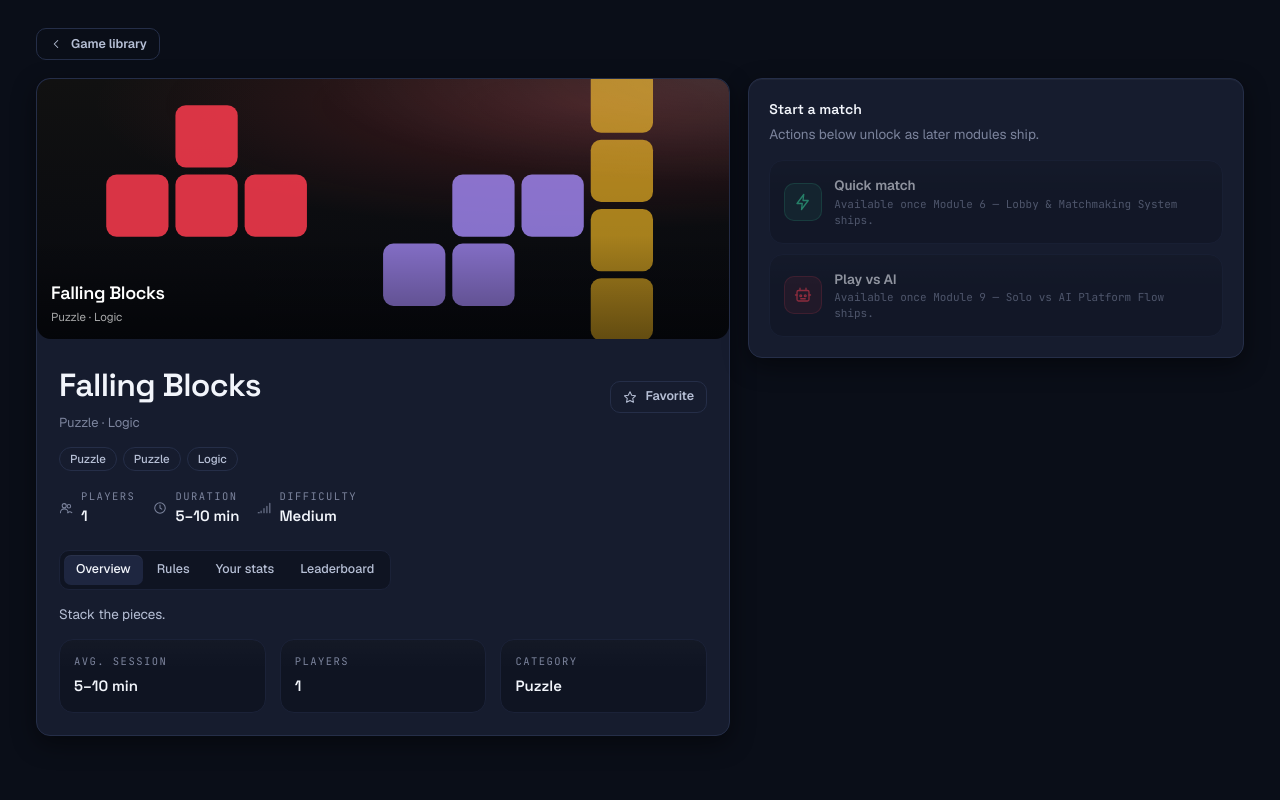
GameDetailPage › authenticated: favorite toggle is optimistic and rolls back on failure
This screenshot has width=1280, height=800.
Expected: the 1st text "Falling Blocks" is shown, [51, 281, 165, 304]
Click the button "Favorite": coordinates (659, 397) [610, 381, 707, 413]
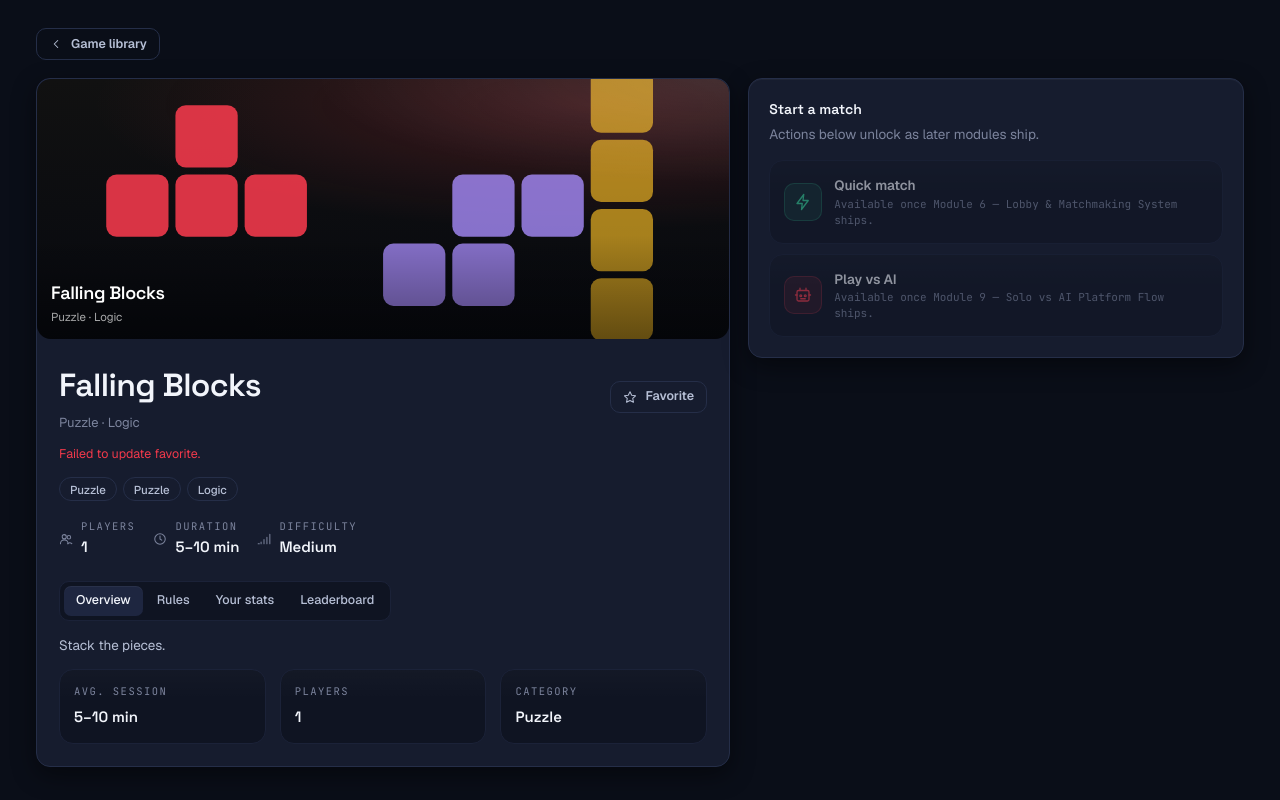
Expected: the text "Failed to update favorite." is shown, [59, 444, 200, 462]
